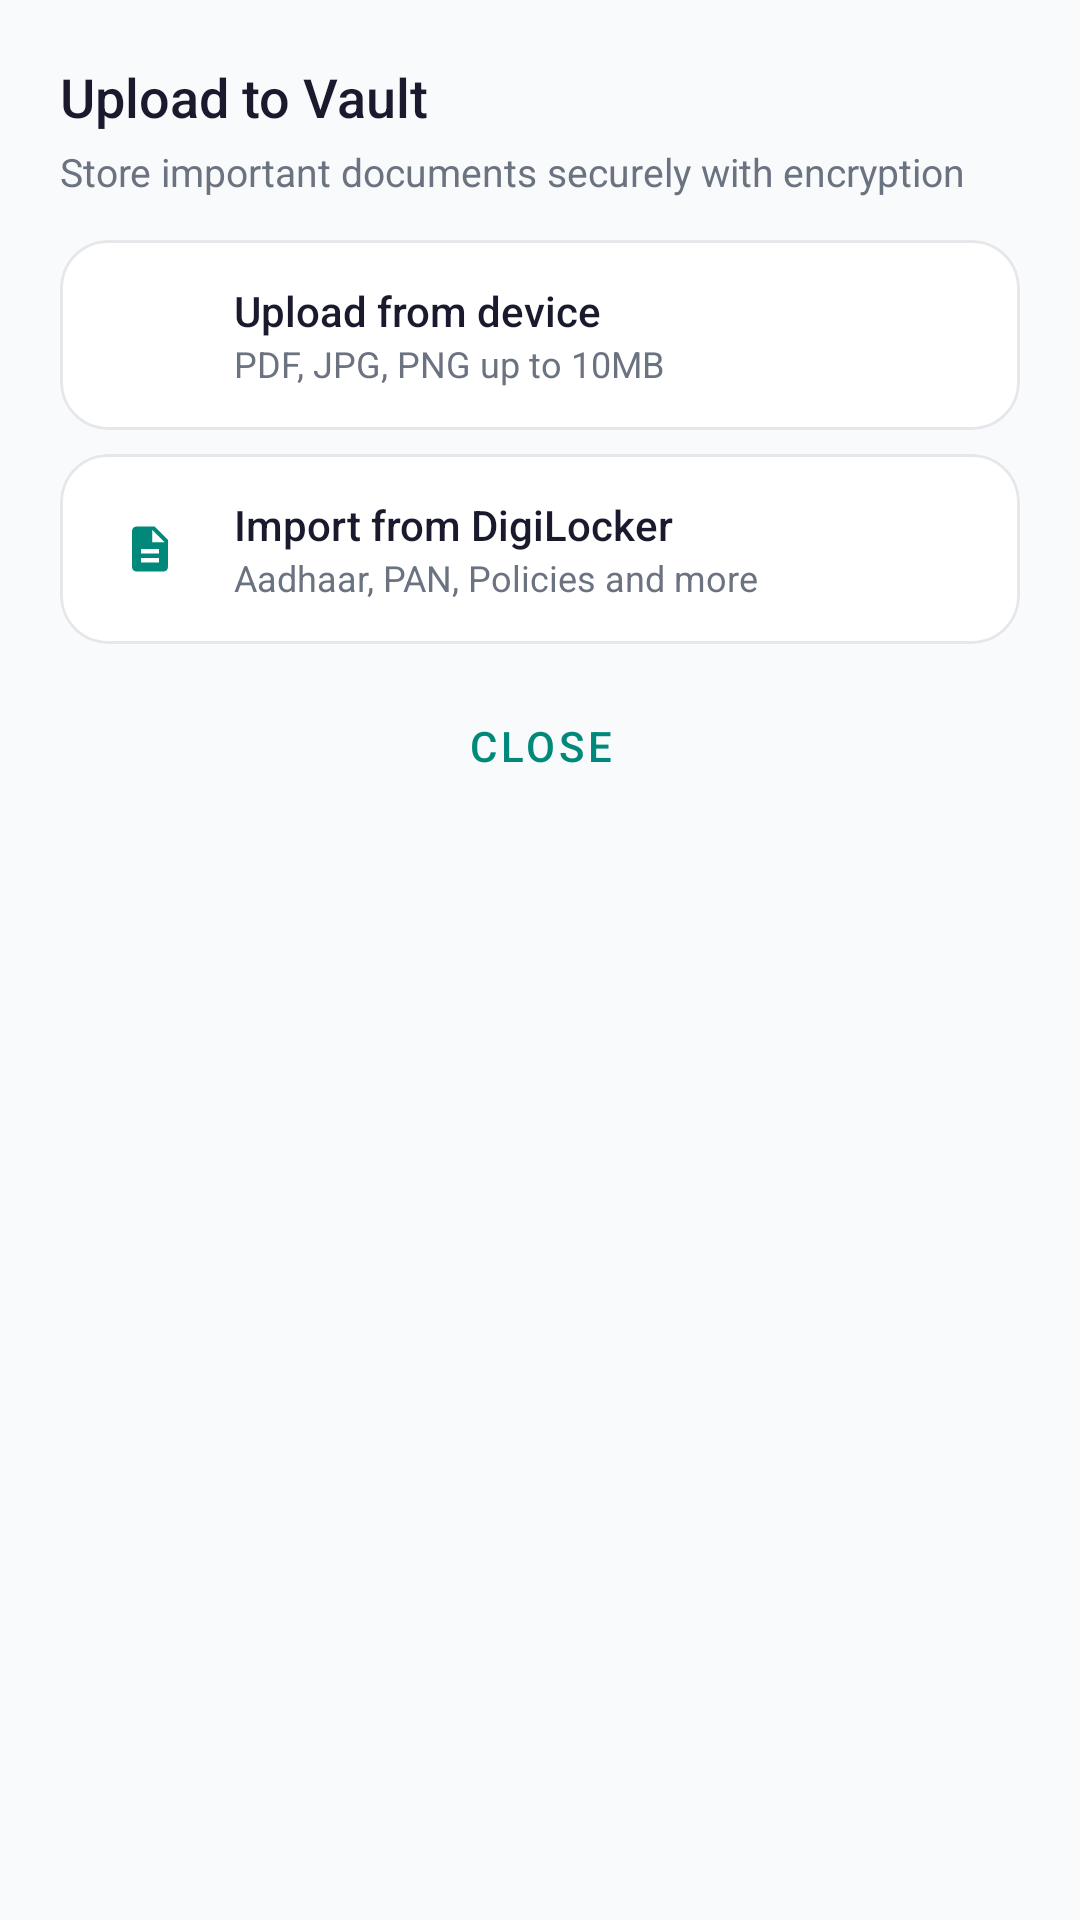

Where to tap for icons on this 1080x1920 app screen, as point (x, y):
document: point (150, 549)
